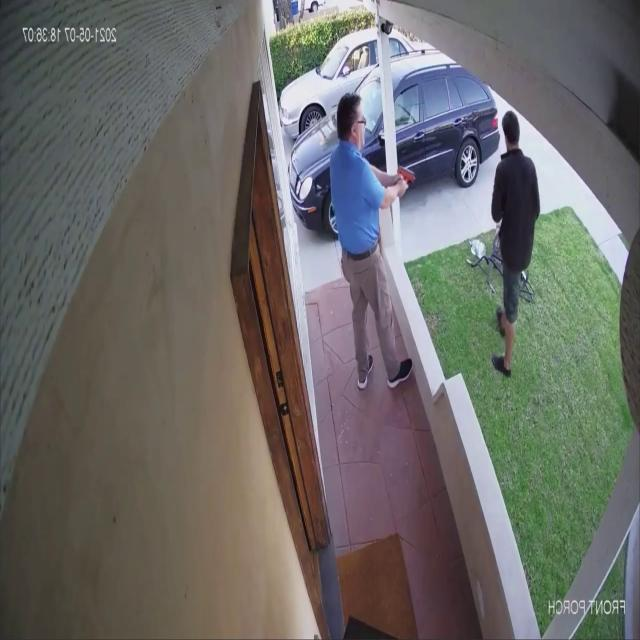Gun: (395, 164, 417, 198)
